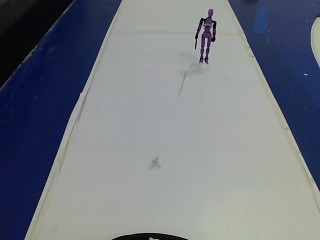pedestrian: (189, 4, 223, 70)
